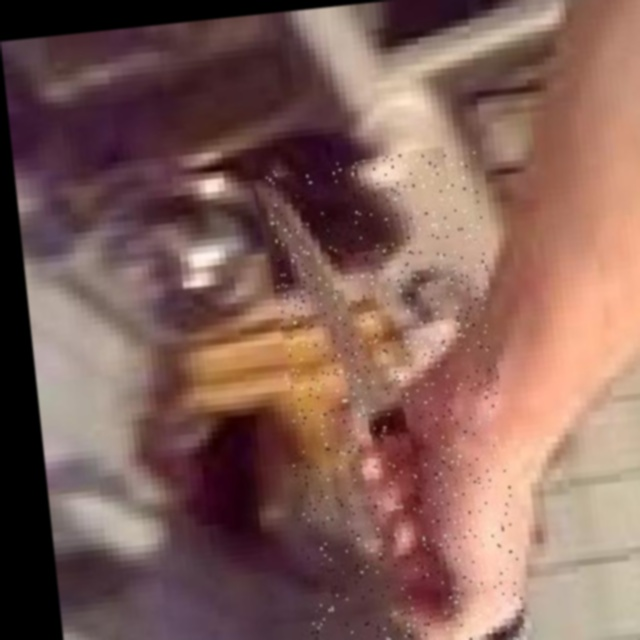Sharp-Object: (262, 147, 528, 640)
